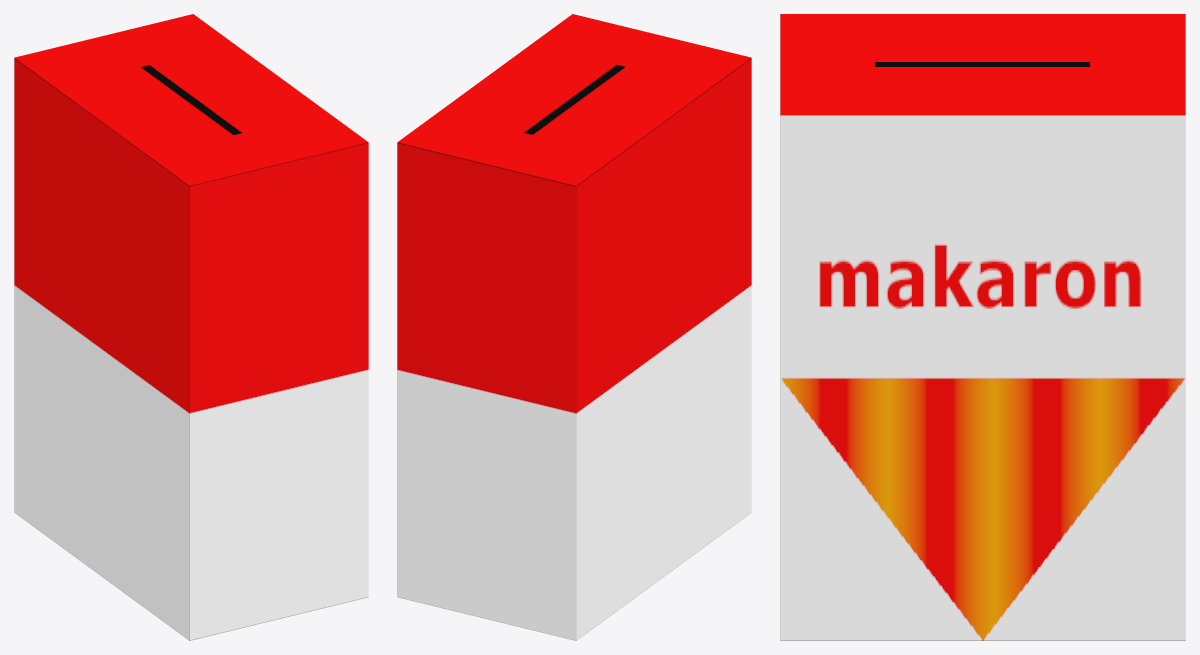
Rendered from Makaron.gltf.
3 views of the same model, side by side, from view 1: azimuth 30°, elevation 25°; view 2: azimuth 150°, elevation 25°; view 3: azimuth 270°, elevation 25° (orthographic). The views are drawn at different scales.
Parts seen in each view (by area): view 1: Cube.002; view 2: Cube.002; view 3: Cube.002.
Boxes of the visible parts, x1=… form: Cube.002: x1=14, y1=14, x2=368, y2=640; Cube.002: x1=397, y1=14, x2=751, y2=640; Cube.002: x1=780, y1=14, x2=1185, y2=640.
Bounding box in the file's own units: 1.18 × 2.86 × 2.
4 materials, 4 textured.
